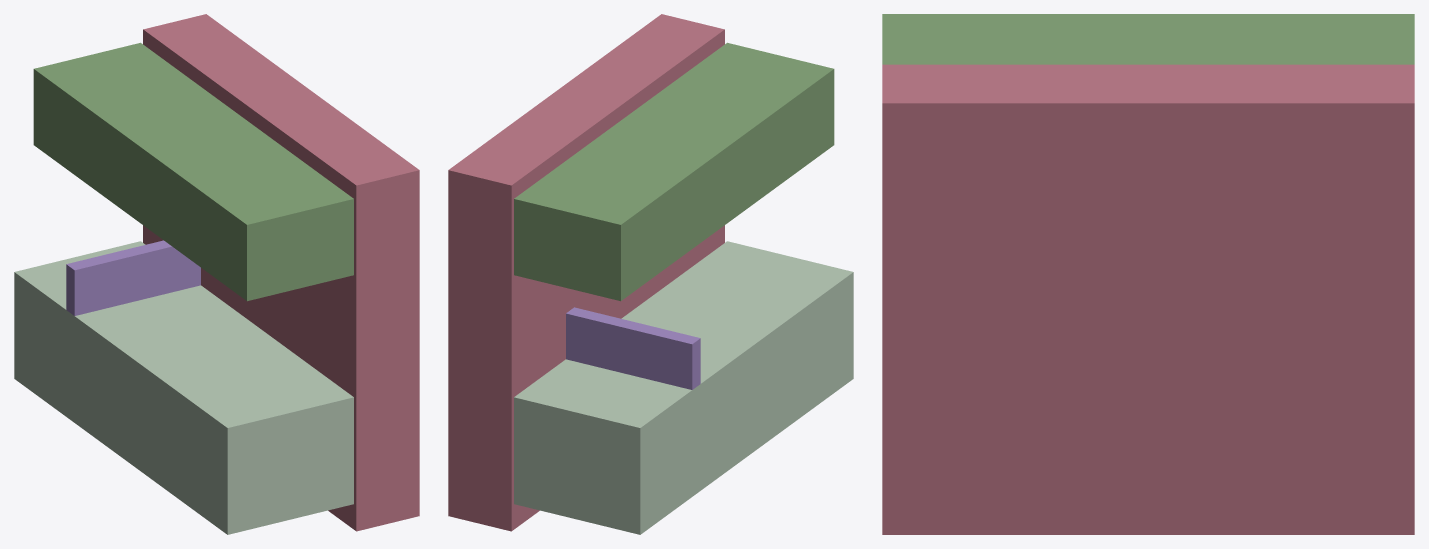
3 views of the same model, side by side, from view 1: azimuth 30°, elevation 25°; view 2: azimuth 150°, elevation 25°; view 3: azimuth 270°, elevation 25° (orthographic). The views are drawn at different scales.
Parts seen in each view (by area): view 1: world; view 2: world; view 3: world.
Boxes of the visible parts, x1,y1,x2,y2 form: world: (14, 14, 419, 534); world: (448, 14, 853, 534); world: (882, 14, 1414, 534).
Bounding box in the file's own units: 3.95 × 6.8 × 7.6.
